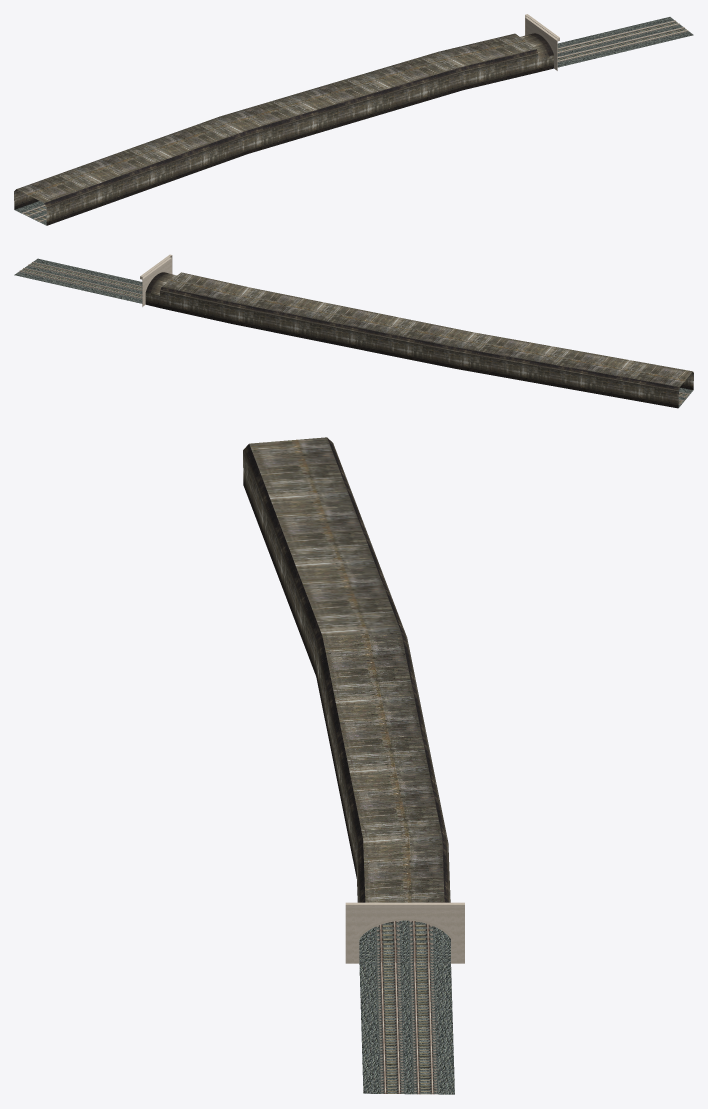
The model's file is railtunn01_law2.obj.
3 views of the same model, one above another, from view 1: azimuth 30°, elevation 25°; view 2: azimuth 150°, elevation 25°; view 3: azimuth 270°, elevation 25° (orthographic). The views are drawn at different scales.
Visible parts, largest first — view 1: RailTunn01_LAw2; view 2: RailTunn01_LAw2; view 3: RailTunn01_LAw2.
Boxes of the visible parts, x1=… form: RailTunn01_LAw2: x1=14, y1=14, x2=693, y2=225; RailTunn01_LAw2: x1=14, y1=254, x2=693, y2=408; RailTunn01_LAw2: x1=243, y1=437, x2=464, y2=1094.
Bounding box in the file's own units: 177 × 8.76 × 26.74.
